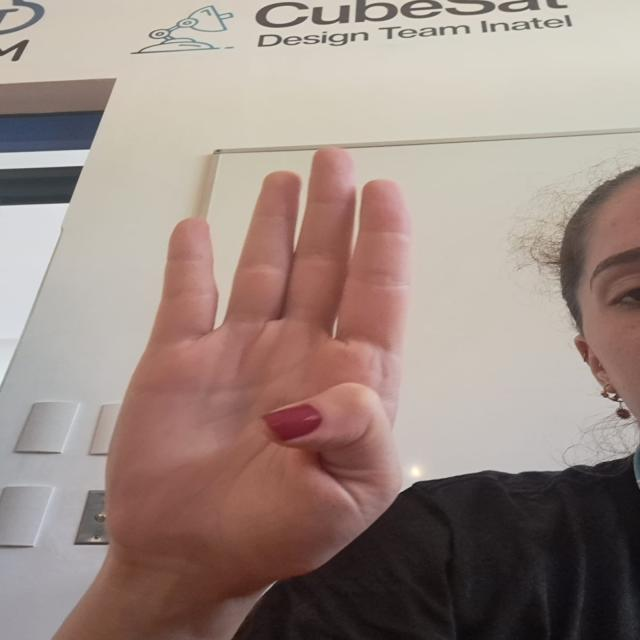B: (88, 134, 432, 602)
